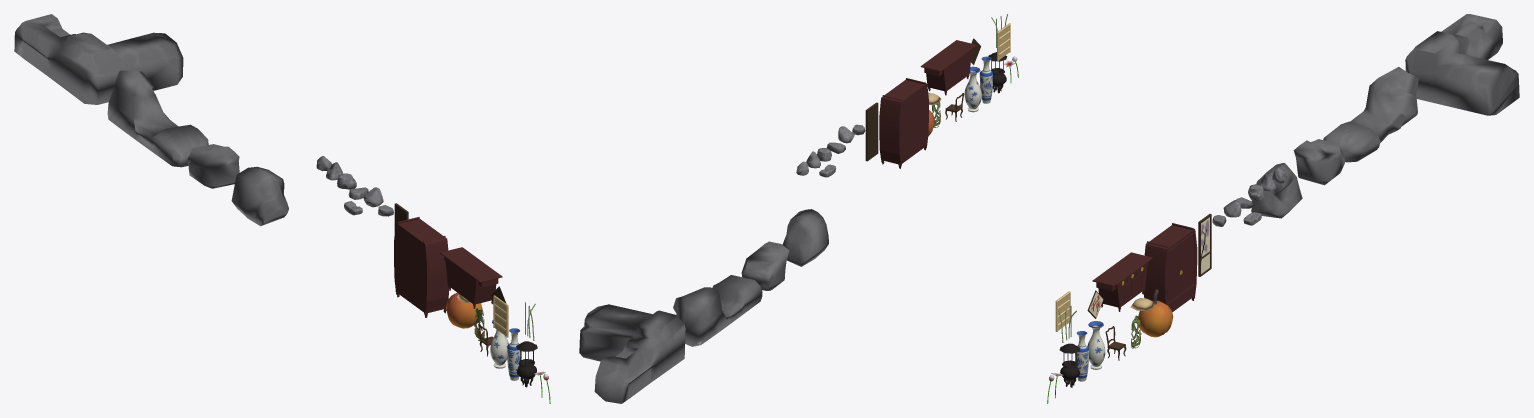
Rendered from objs.fbx.
3 renders of one model, left to right at view 1: azimuth 30°, elevation 25°; view 2: azimuth 150°, elevation 25°; view 3: azimuth 330°, elevation 25°, orthographic. The views are drawn at different scales.
Visible parts, largest first — view 1: polySurface387, polySurface386, polySurface892, polySurface384, polySurface890, polySurface385, pSphere1, polySurface576, polySurface172, polySurface173, polySurface799; view 2: polySurface387, polySurface386, polySurface892, polySurface384, polySurface890, polySurface385, polySurface183, polySurface173, polySurface172, polySurface799, polySurface576; view 3: polySurface387, polySurface386, polySurface892, polySurface890, polySurface385, polySurface384, pSphere1, polySurface183, polySurface173, polySurface576, polySurface172, polySurface799.
Boxes of the visible parts, left/top/right/bottom form: polySurface387: left=14, top=14, right=183, bottom=104; polySurface386: left=107, top=70, right=208, bottom=167; polySurface892: left=394, top=217, right=448, bottom=317; polySurface384: left=231, top=166, right=288, bottom=226; polySurface890: left=440, top=247, right=502, bottom=308; polySurface385: left=187, top=144, right=239, bottom=188; pSphere1: left=446, top=292, right=482, bottom=328; polySurface576: left=516, top=341, right=537, bottom=387; polySurface172: left=507, top=328, right=521, bottom=380; polySurface173: left=490, top=320, right=508, bottom=368; polySurface799: left=493, top=295, right=508, bottom=337; polySurface387: left=579, top=304, right=685, bottom=403; polySurface386: left=673, top=275, right=762, bottom=346; polySurface892: left=879, top=78, right=928, bottom=168; polySurface384: left=782, top=209, right=828, bottom=266; polySurface890: left=920, top=40, right=976, bottom=95; polySurface385: left=741, top=241, right=789, bottom=290; polySurface183: left=865, top=102, right=878, bottom=161; polySurface173: left=964, top=66, right=981, bottom=112; polySurface172: left=979, top=56, right=992, bottom=103; polySurface799: left=997, top=23, right=1010, bottom=60; polySurface576: left=988, top=52, right=1007, bottom=93; polySurface387: left=1405, top=14, right=1519, bottom=115; polySurface386: left=1323, top=67, right=1418, bottom=162; polySurface892: left=1144, top=223, right=1197, bottom=311; polySurface890: left=1092, top=252, right=1152, bottom=311; polySurface385: left=1293, top=139, right=1344, bottom=185; polySurface384: left=1251, top=163, right=1302, bottom=218; pSphere1: left=1138, top=289, right=1173, bottom=337; polySurface183: left=1198, top=214, right=1211, bottom=276; polySurface173: left=1087, top=321, right=1105, bottom=369; polySurface576: left=1059, top=343, right=1080, bottom=387; polySurface172: left=1075, top=331, right=1088, bottom=381; polySurface799: left=1055, top=291, right=1070, bottom=331.
Bounding box in the file's own units: 0.187 × 0.1585 × 1.65.
